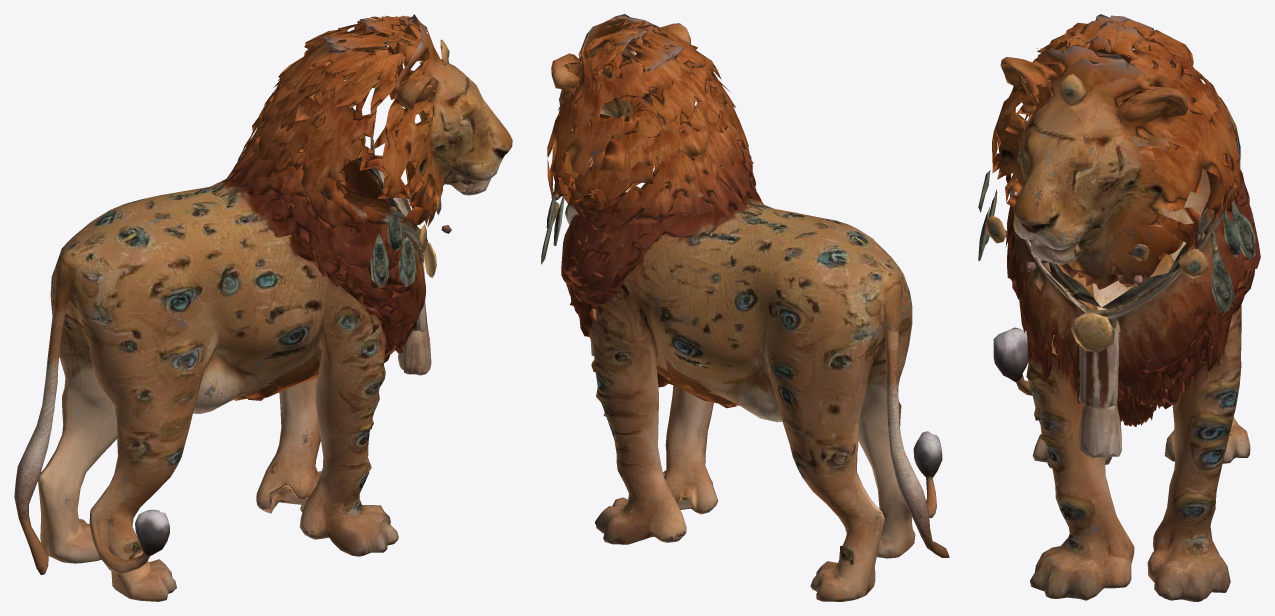
The model's file is beastLion.glb.
The picture shows the model from 3 angles, left to right: view 1: azimuth 30°, elevation 25°; view 2: azimuth 150°, elevation 25°; view 3: azimuth 270°, elevation 25°; orthographic projection. The views are drawn at different scales.
Visible parts, largest first — view 1: geometry_0; view 2: geometry_0; view 3: geometry_0.
Boxes of the visible parts, bbox=[...] form: geometry_0: bbox=[14, 14, 512, 601]; geometry_0: bbox=[541, 14, 949, 601]; geometry_0: bbox=[978, 14, 1260, 601].
Size of the model in its own units: 0.8971 by 0.9869 by 0.4344.
1 material, 1 textured.
